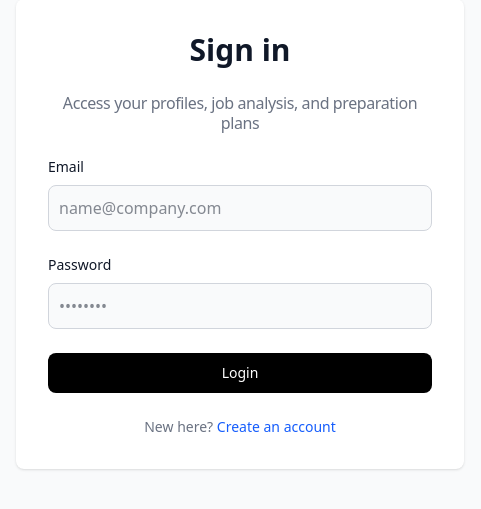
Test: shows generic error on server failure
The image size is (481, 509).
Type "user@example.com" into the field labelled "Email". click: (240, 208)
box: [48,185,432,231]
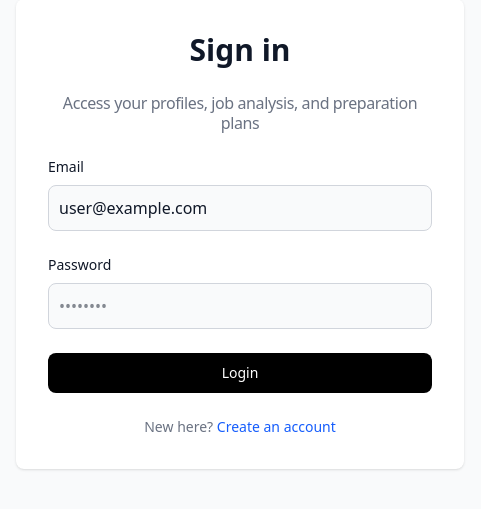
Type "secret" into the password field labelled "Password". click: (240, 306)
box: [48,283,432,329]
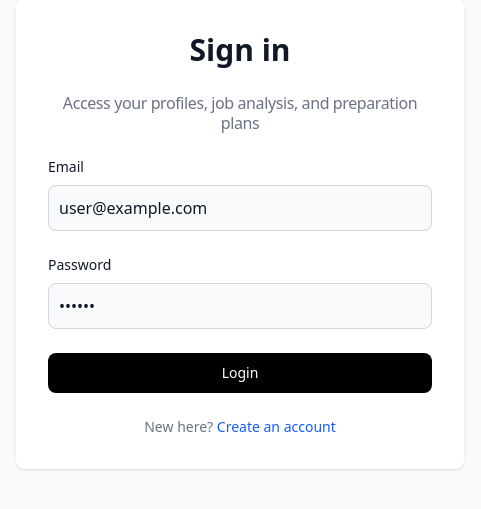
Click the button "Login". click: (240, 373)
box: [48,353,432,393]
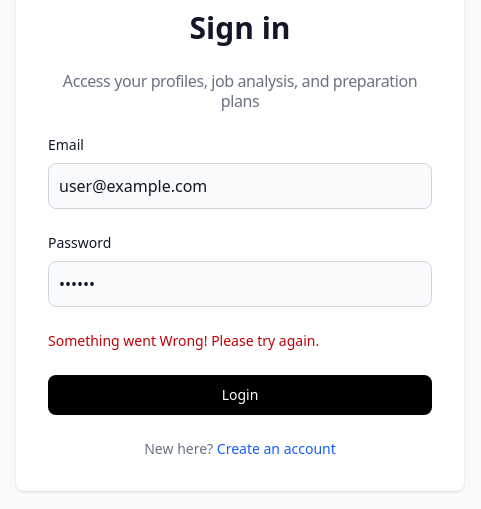
Now the text "Something went Wrong! Please try again." is shown, box [48,331,319,350]
